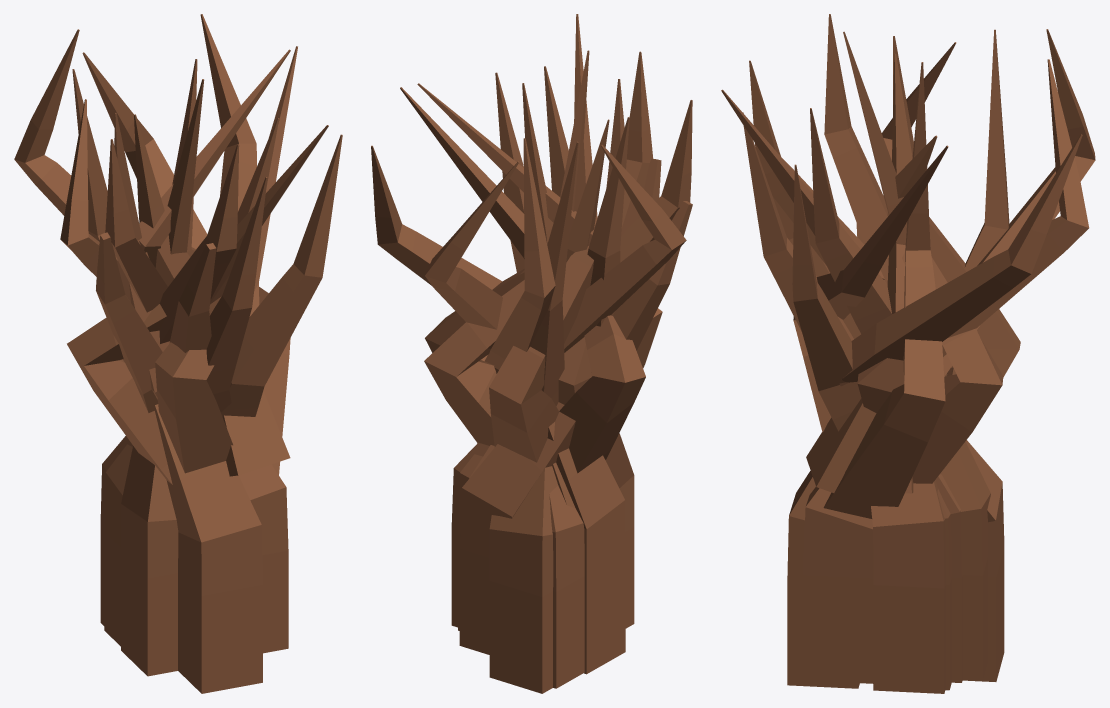
3 renders of one model, left to right at view 1: azimuth 30°, elevation 25°; view 2: azimuth 150°, elevation 25°; view 3: azimuth 270°, elevation 25°, orthographic. The views are drawn at different scales.
Visible parts, largest first — view 1: Plane.016; view 2: Plane.016; view 3: Plane.016.
Boxes of the visible parts, x1,y1,x2,y2 form: Plane.016: [14, 14, 342, 693]; Plane.016: [371, 14, 692, 693]; Plane.016: [721, 14, 1095, 693].
Size of the model in its own units: 157 by 342 by 182.
